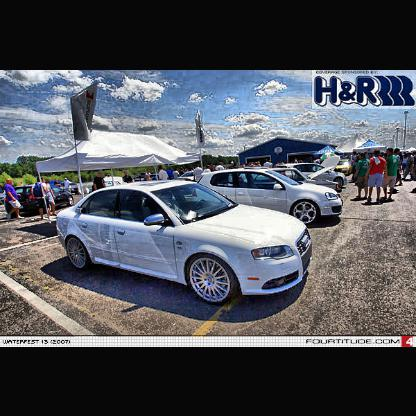Audi S4 Sedan 2007: (56, 180, 314, 309)
